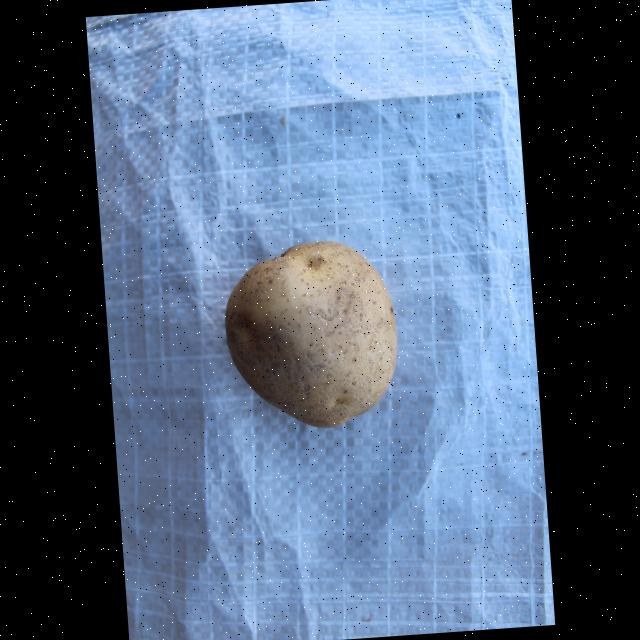Diseased-fungal potato: (215, 232, 408, 439)
